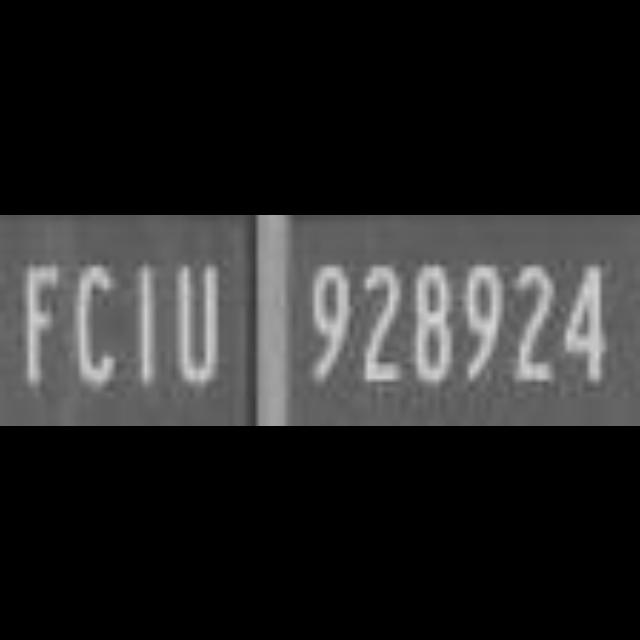2: (507, 255, 561, 393), (358, 255, 407, 388)
4: (559, 254, 619, 392)
8: (408, 252, 458, 393)
9: (300, 255, 354, 387), (458, 253, 504, 385)
c: (70, 248, 124, 398)
f: (5, 250, 71, 400)
i: (126, 254, 166, 392)
u: (172, 252, 230, 396)
